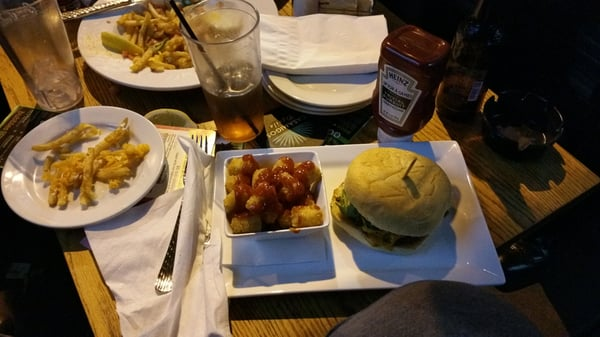sandwich: (154, 151, 185, 294)
soup: (331, 146, 452, 251)
